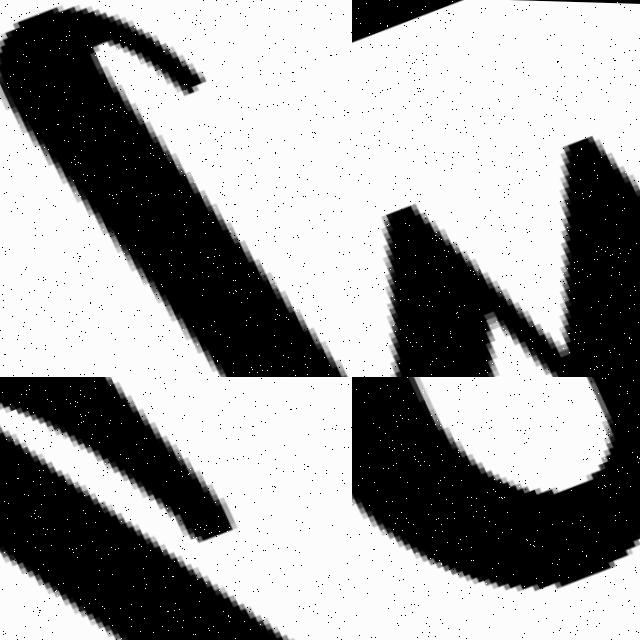D: (352, 377, 640, 640)
L: (0, 0, 352, 377)
W: (352, 63, 640, 377)
Z: (0, 377, 352, 640)
